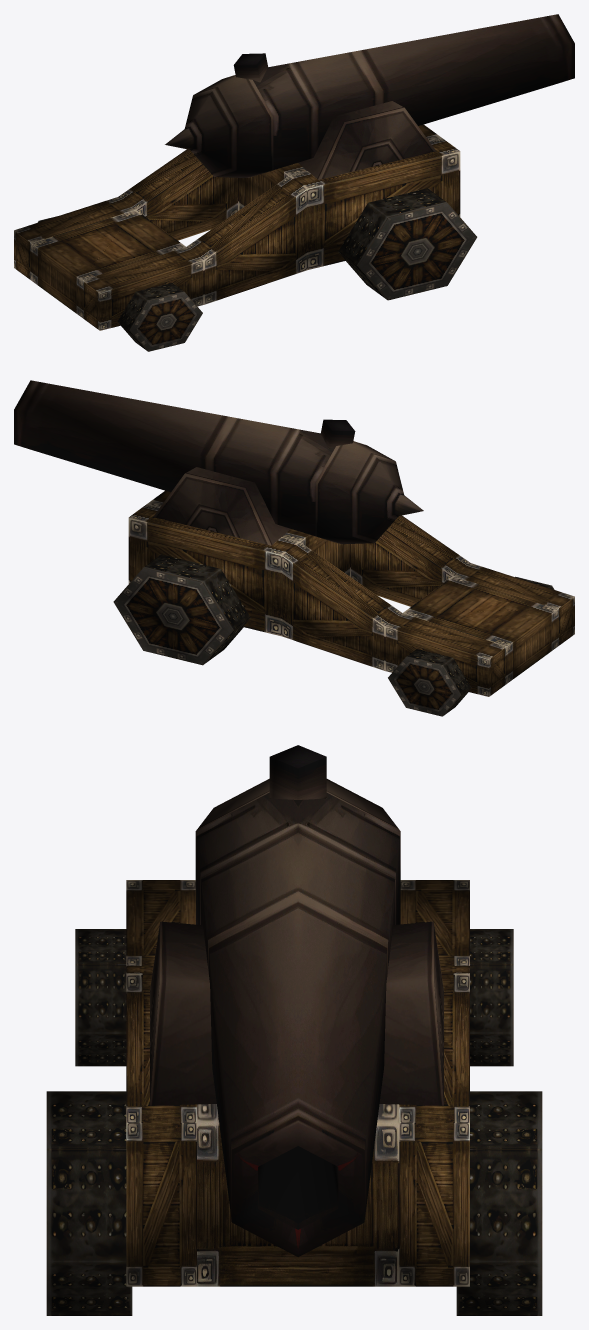
Rendered from cannon01.obj.
The picture shows the model from 3 angles, top to bottom: view 1: azimuth 30°, elevation 25°; view 2: azimuth 150°, elevation 25°; view 3: azimuth 270°, elevation 25°; orthographic projection. The views are drawn at different scales.
Visible parts, largest first — view 1: cannon01; view 2: cannon01; view 3: cannon01.
Boxes of the visible parts, x1,y1,x2,y2 form: cannon01: (14,14,574,351); cannon01: (14,380,574,716); cannon01: (46,745,542,1315).
Size of the model in its own units: 10.27 by 4.22 by 4.39.
Materials: 1 (1 with a texture image).
